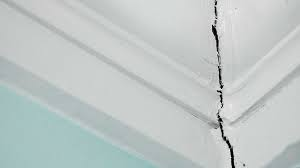crack: (208, 0, 236, 167)
